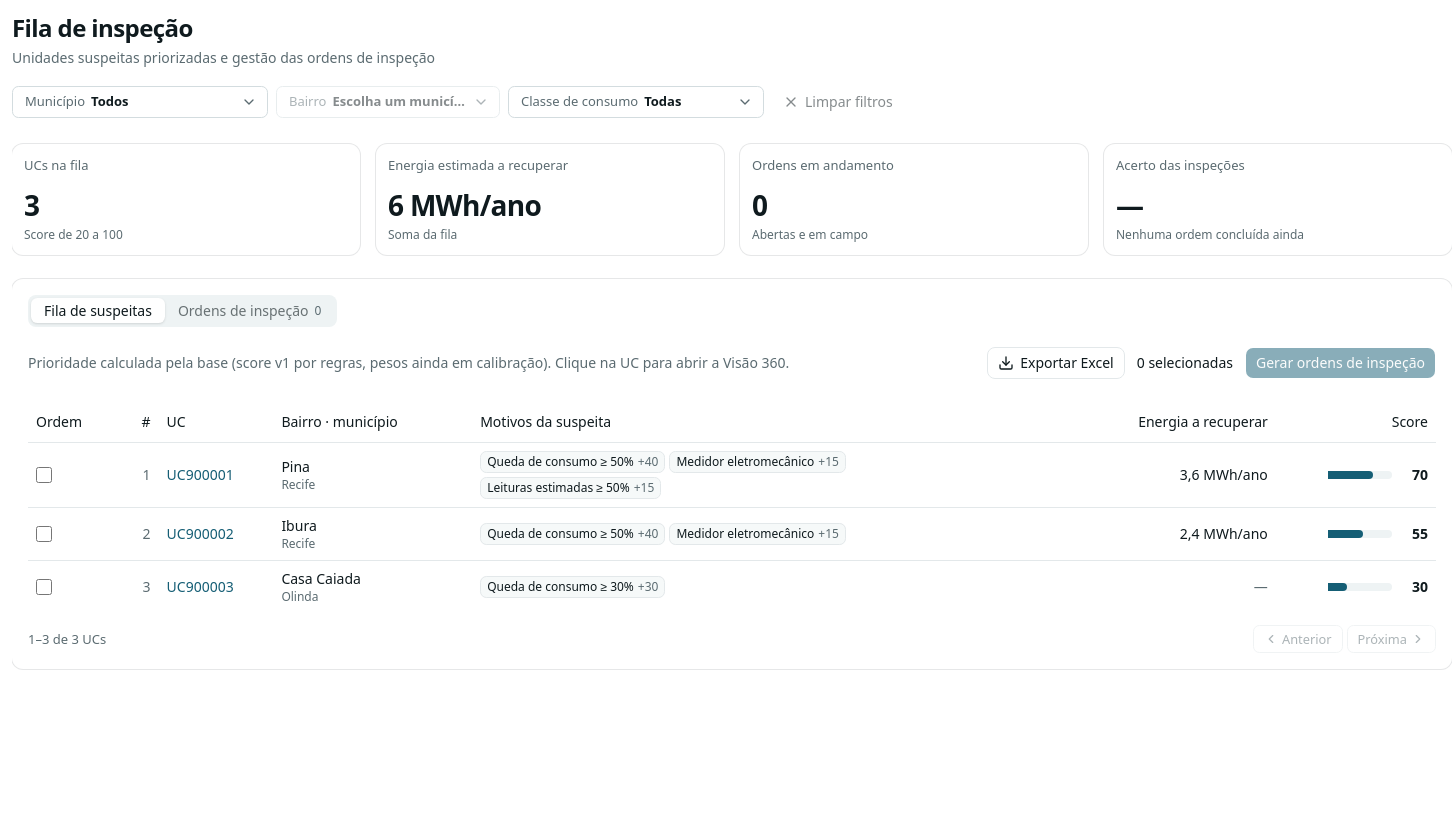
Test: exportar com erro avisa e não baixa nada
Click the button "Exportar Excel": [1056, 363] box [987,347,1125,379]
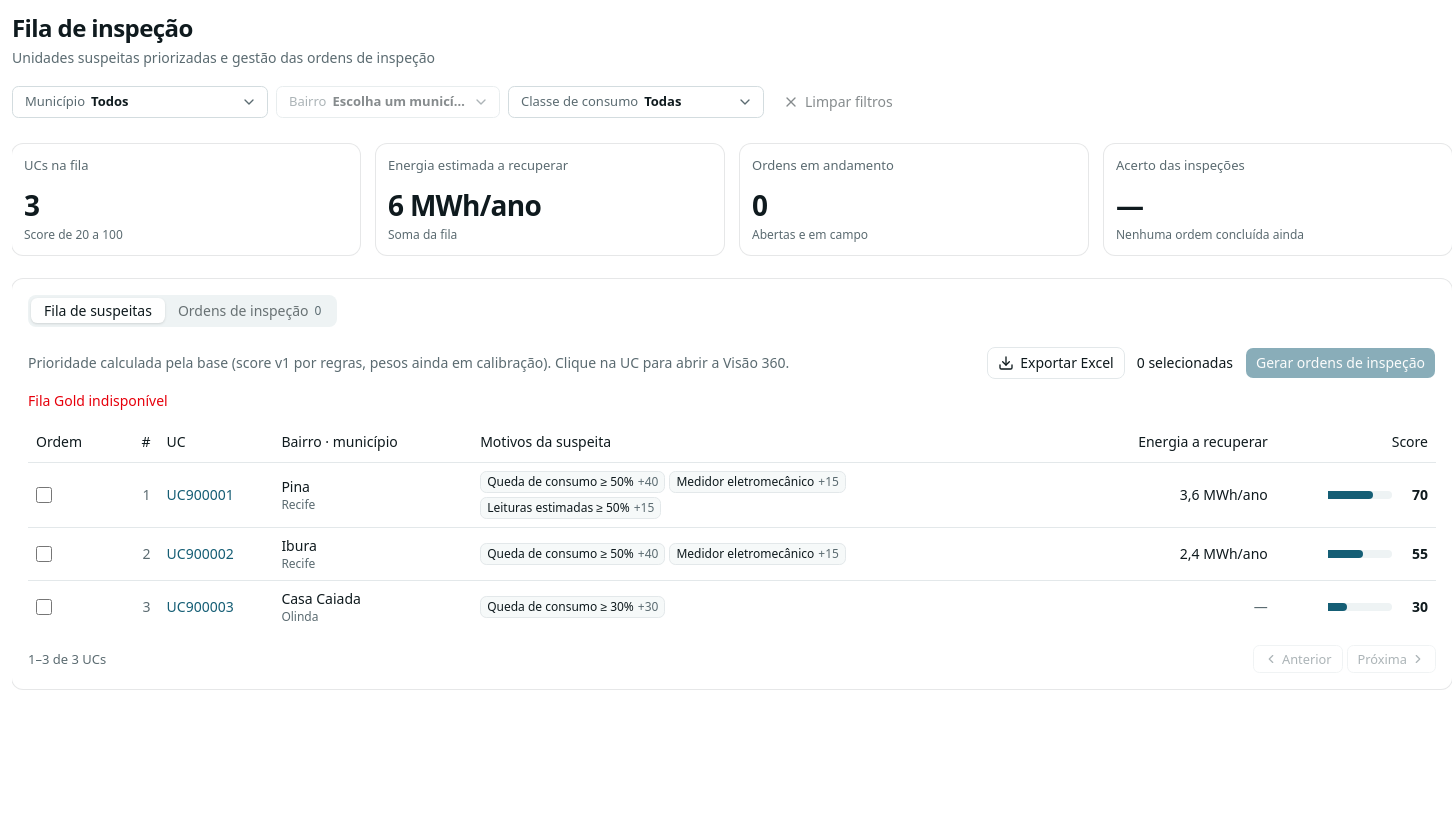
Result: the text "Fila Gold indisponível" is shown at [28,391,168,410]
